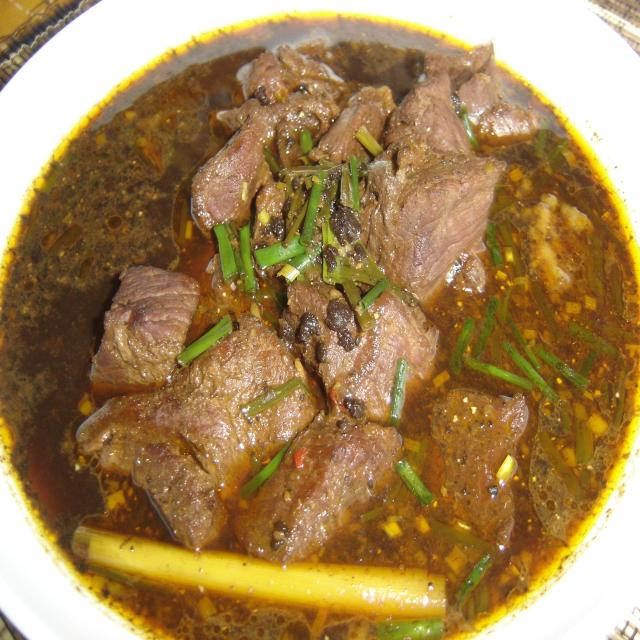Rawon: (47, 52, 590, 583)
